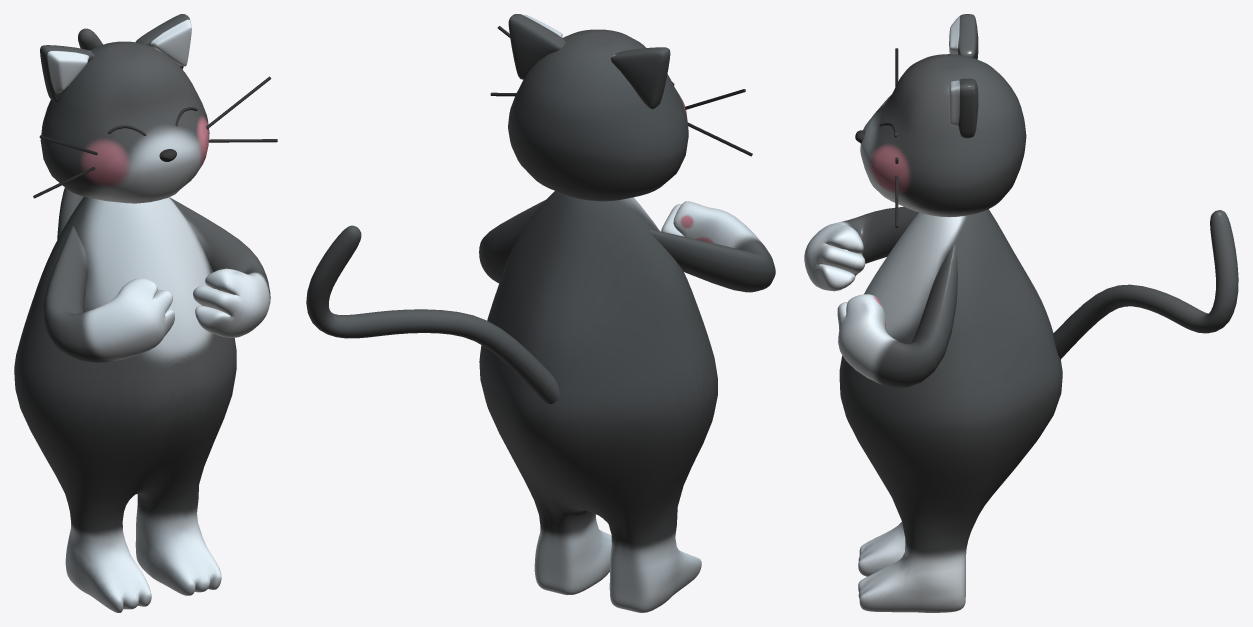
File: cat_feed.glb
3 renders of one model, left to right at view 1: azimuth 30°, elevation 25°; view 2: azimuth 150°, elevation 25°; view 3: azimuth 270°, elevation 25°, orthographic. The views are drawn at different scales.
Parts seen in each view (by area): view 1: pasted__pCube19; view 2: pasted__pCube19; view 3: pasted__pCube19.
Part boxes in pixels (x1,y1,x2,y2): pasted__pCube19: [14, 14, 277, 612]; pasted__pCube19: [306, 14, 775, 612]; pasted__pCube19: [804, 14, 1238, 612].
Bounding box in the file's own units: 3.74 × 7.6 × 5.53.
1 material, 1 textured.
